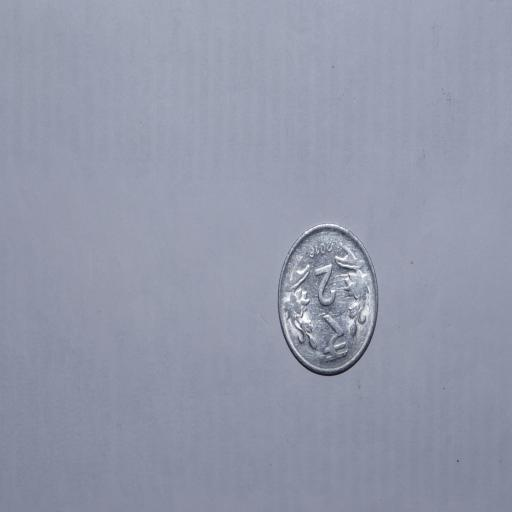rupee2: (277, 225, 380, 377)
